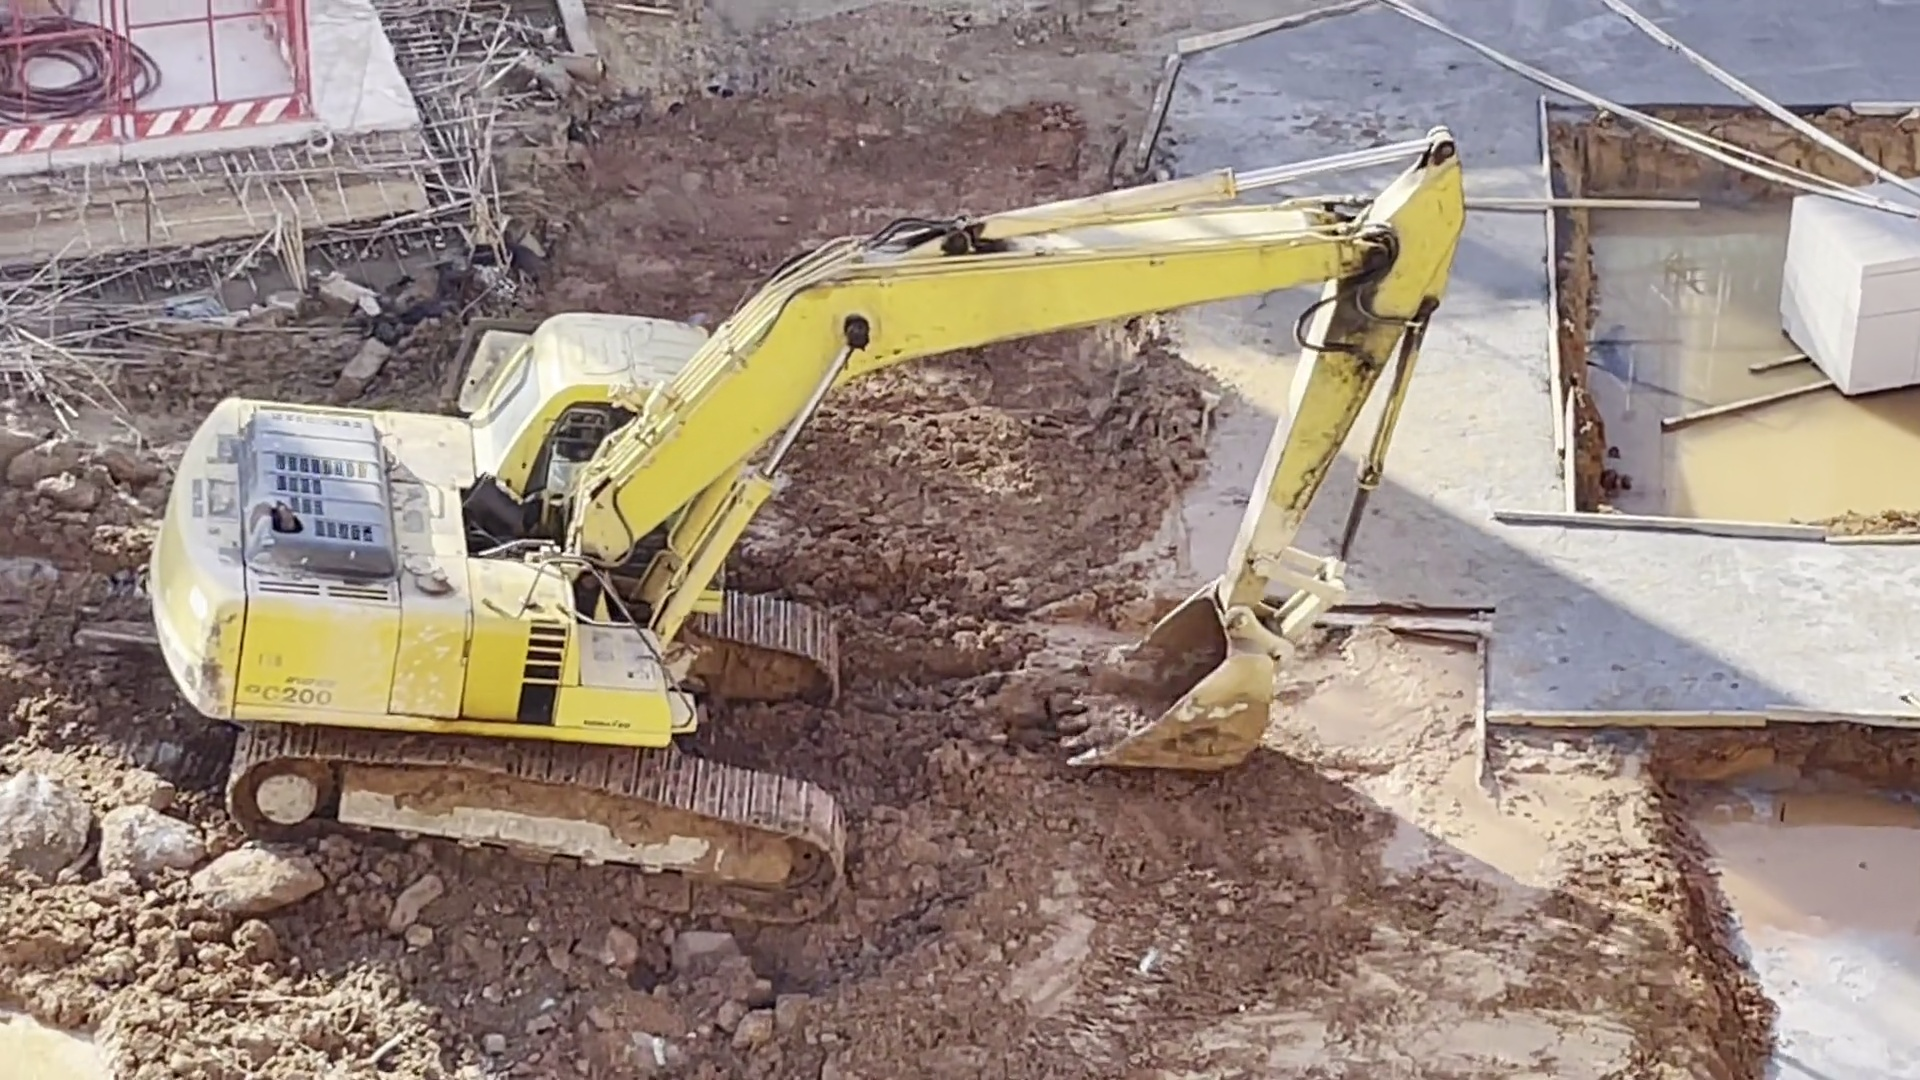brick: (1779, 164, 1920, 409)
